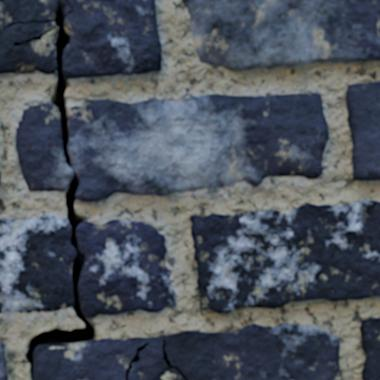brick: (191, 200, 379, 312), (34, 324, 340, 379), (183, 0, 379, 70), (346, 82, 379, 180), (360, 318, 379, 379), (0, 343, 7, 379)
broken_brick: (69, 92, 329, 202), (77, 219, 176, 317), (64, 0, 162, 79), (0, 214, 75, 313), (15, 102, 71, 191), (0, 23, 55, 74), (0, 0, 54, 28)
crack: (0, 0, 96, 379), (247, 94, 290, 99)
